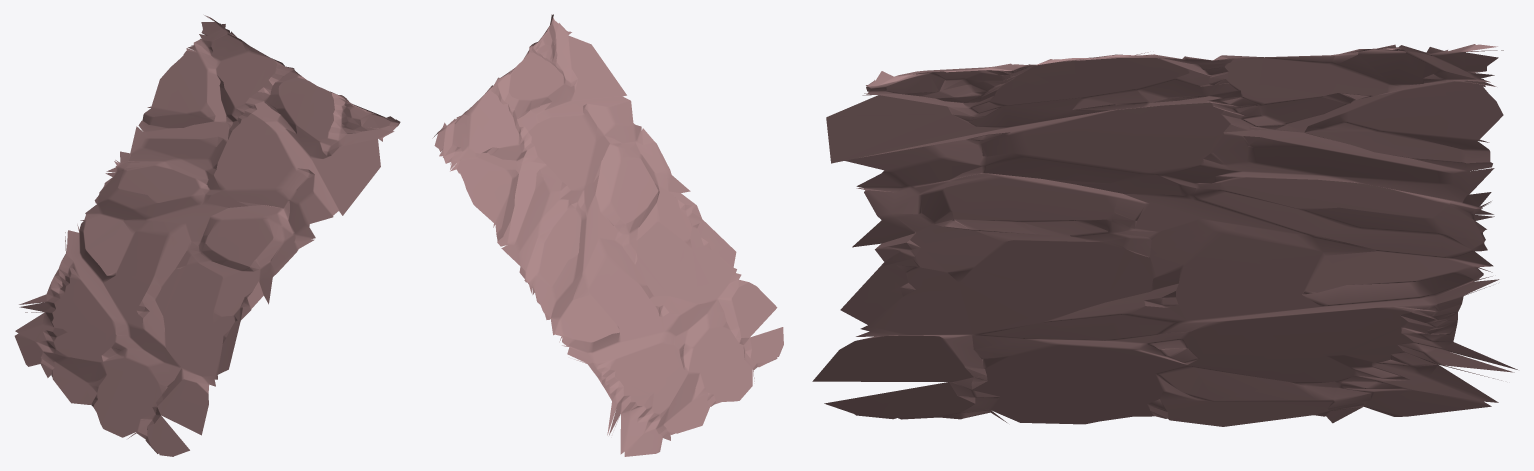
File: plateau.fbx_Rock_Plateau_033LODs.fbx
3 views of the same model, side by side, from view 1: azimuth 30°, elevation 25°; view 2: azimuth 150°, elevation 25°; view 3: azimuth 270°, elevation 25° (orthographic). The views are drawn at different scales.
Visible parts, largest first — view 1: Rock Plateau.033_LOD0; view 2: Rock Plateau.033_LOD0; view 3: Rock Plateau.033_LOD0.
Boxes of the visible parts, x1,y1,x2,y2 form: Rock Plateau.033_LOD0: [14, 15, 400, 456]; Rock Plateau.033_LOD0: [432, 14, 783, 456]; Rock Plateau.033_LOD0: [812, 44, 1517, 426].
Size of what is drawn, in the model's own units: 2667 by 3075 by 3375.
